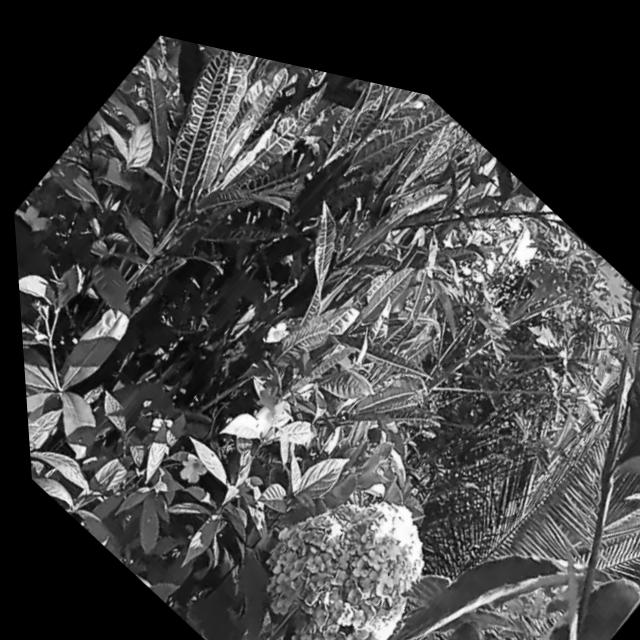Flower: (206, 414, 465, 640)
